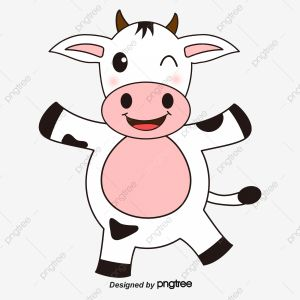cow: (35, 7, 263, 279)
